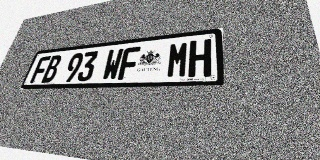3: (76, 51, 99, 81)
9: (62, 52, 85, 82)
B: (41, 55, 63, 83)
F: (117, 46, 141, 80), (30, 56, 51, 83)
H: (188, 39, 211, 77)
M: (166, 41, 189, 78)
W: (101, 48, 124, 81)
